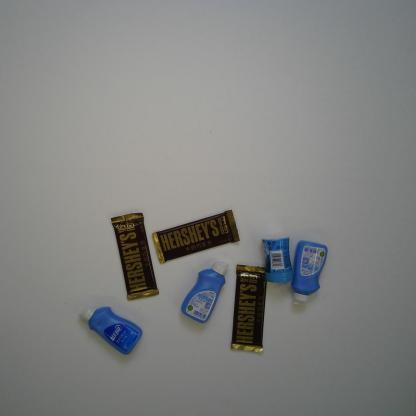Chocolate: (151, 209, 240, 264), (111, 212, 159, 301), (230, 264, 267, 353)
Gum: (261, 236, 294, 284)
Personal Hygiene: (180, 261, 231, 323), (82, 306, 143, 355), (290, 240, 328, 305)
